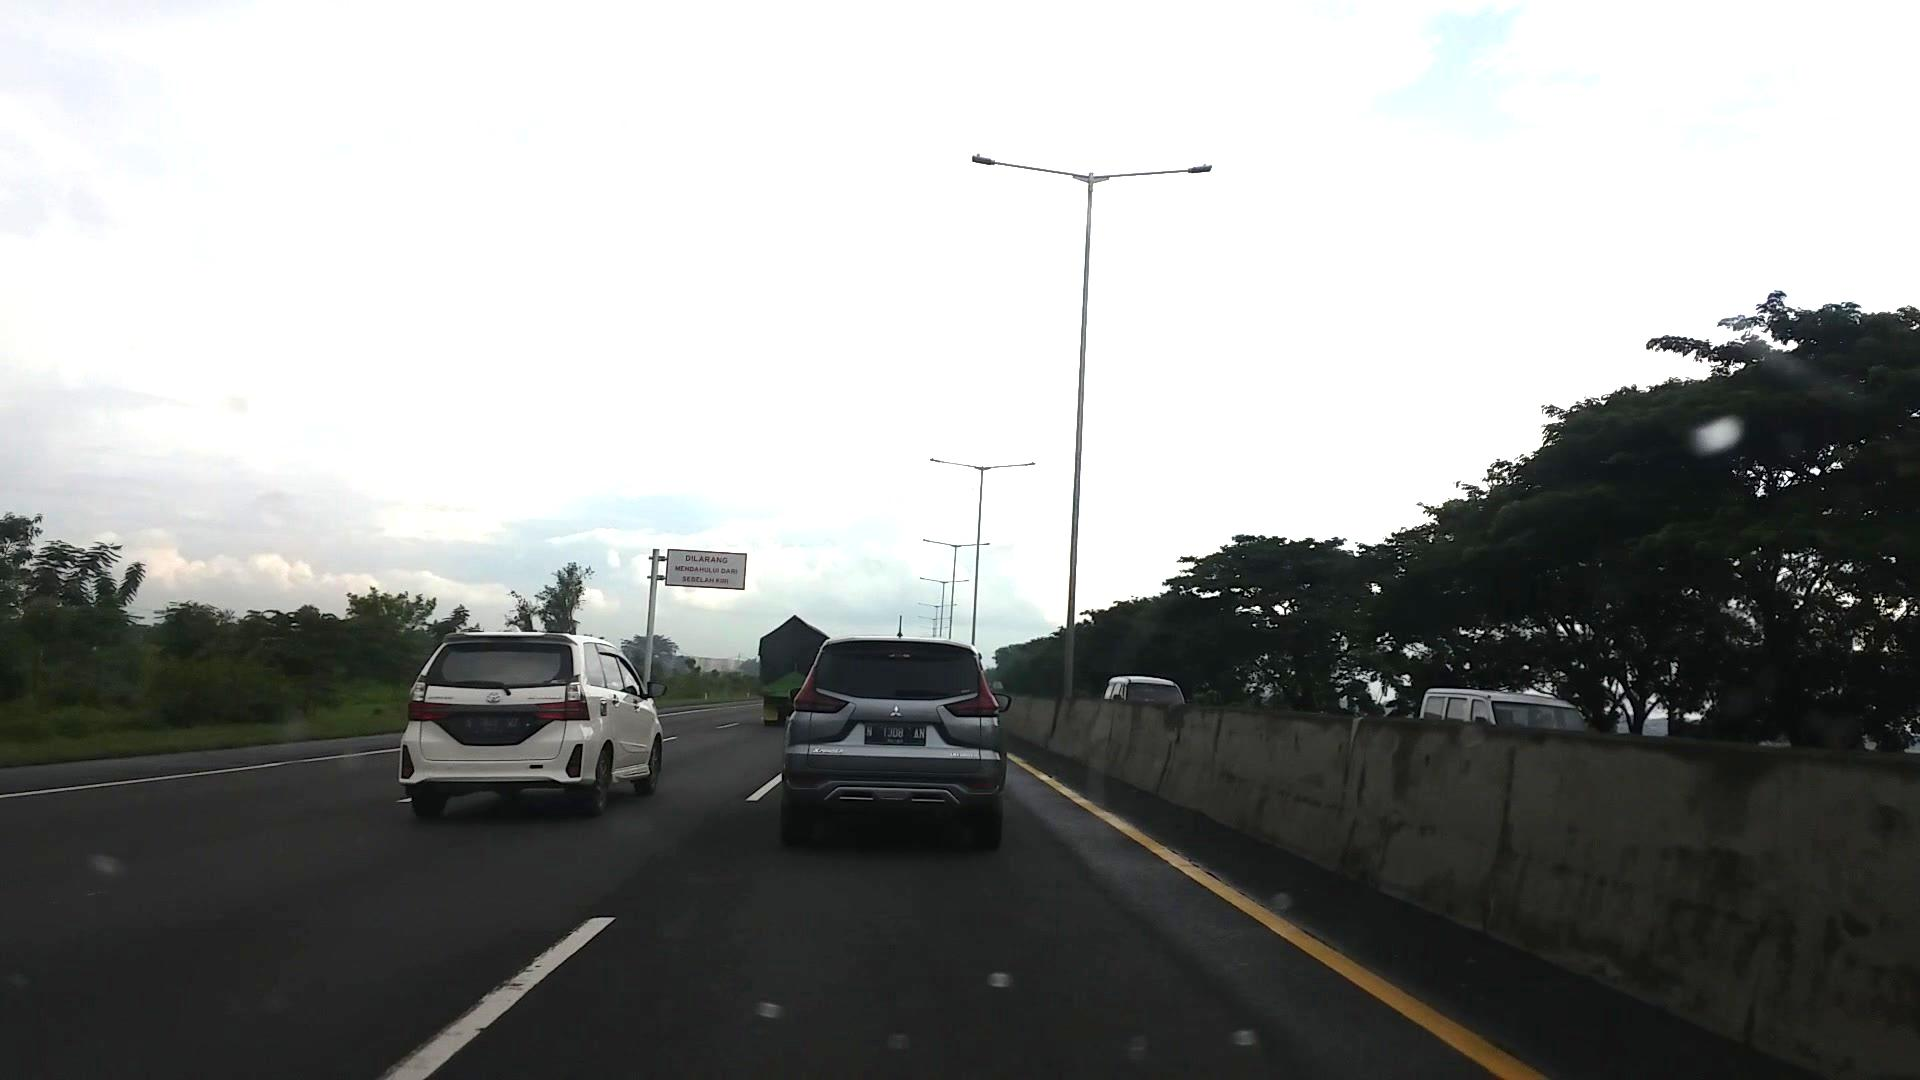plate_positive: (862, 723, 927, 744)
